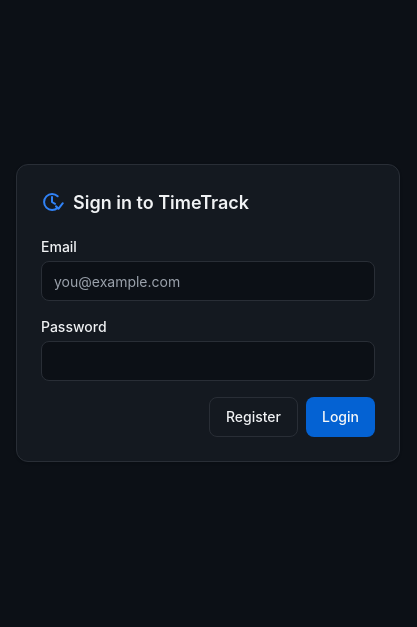
Test: App shell › registration view returns to login on Cancel
The image size is (417, 627).
Check: the heading "Sign in to TimeTrack" is shown, box [73,189,249,217]
Click the button "Register" at (253, 417), box [209,397,298,437]
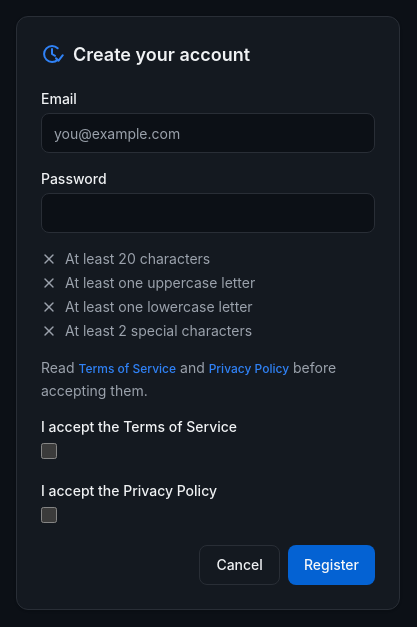
Check: the heading "Create your account" is shown, box [73,41,250,69]
Click the button "Cancel" at (240, 565), box [199,545,280,585]
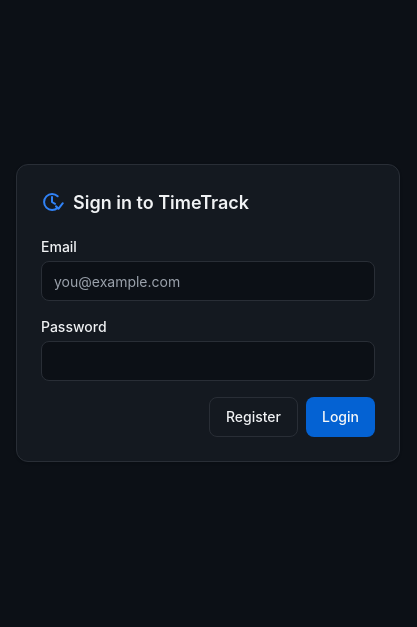
Check: the heading "Sign in to TimeTrack" is shown, box [73,189,249,217]
